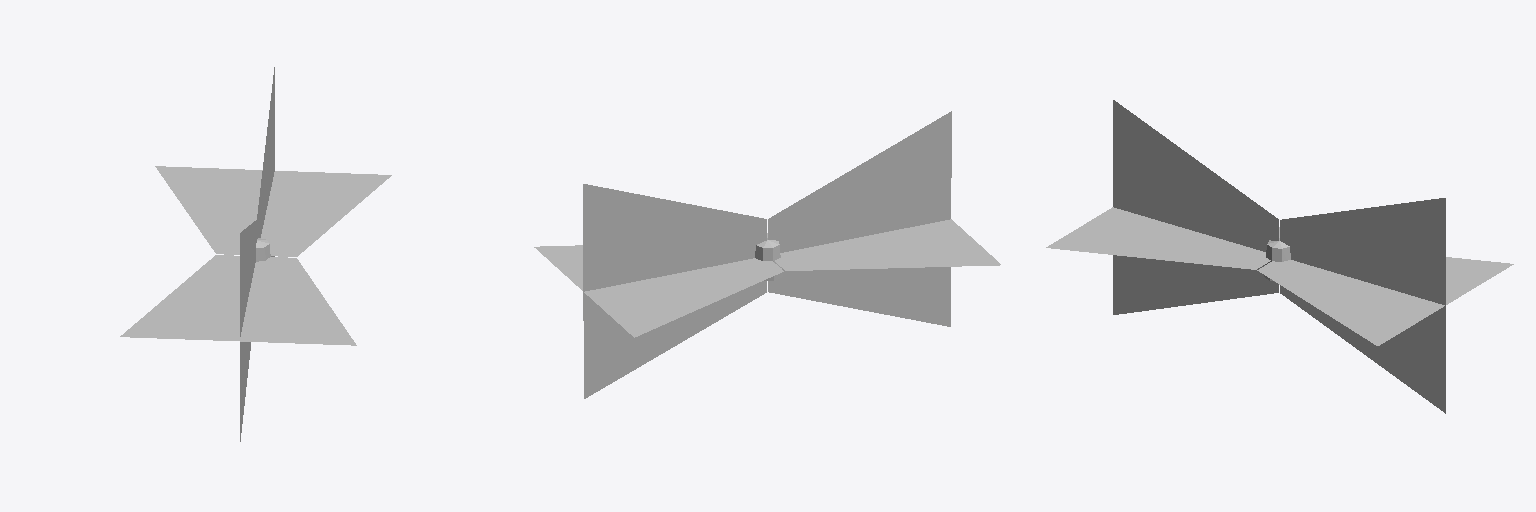
File: stg400_MotRotlightA_r2_18.obj
3 renders of one model, left to right at view 1: azimuth 30°, elevation 25°; view 2: azimuth 150°, elevation 25°; view 3: azimuth 270°, elevation 25°, orthographic.
Visible parts, largest first — view 1: polygon4; view 2: polygon4; view 3: polygon4.
Part boxes in pixels (x1,y1,x2,y2): polygon4: (120,67,391,441); polygon4: (534,111,1000,398); polygon4: (1046,100,1513,413).
Bounding box in the file's own units: 115 × 63.89 × 126.